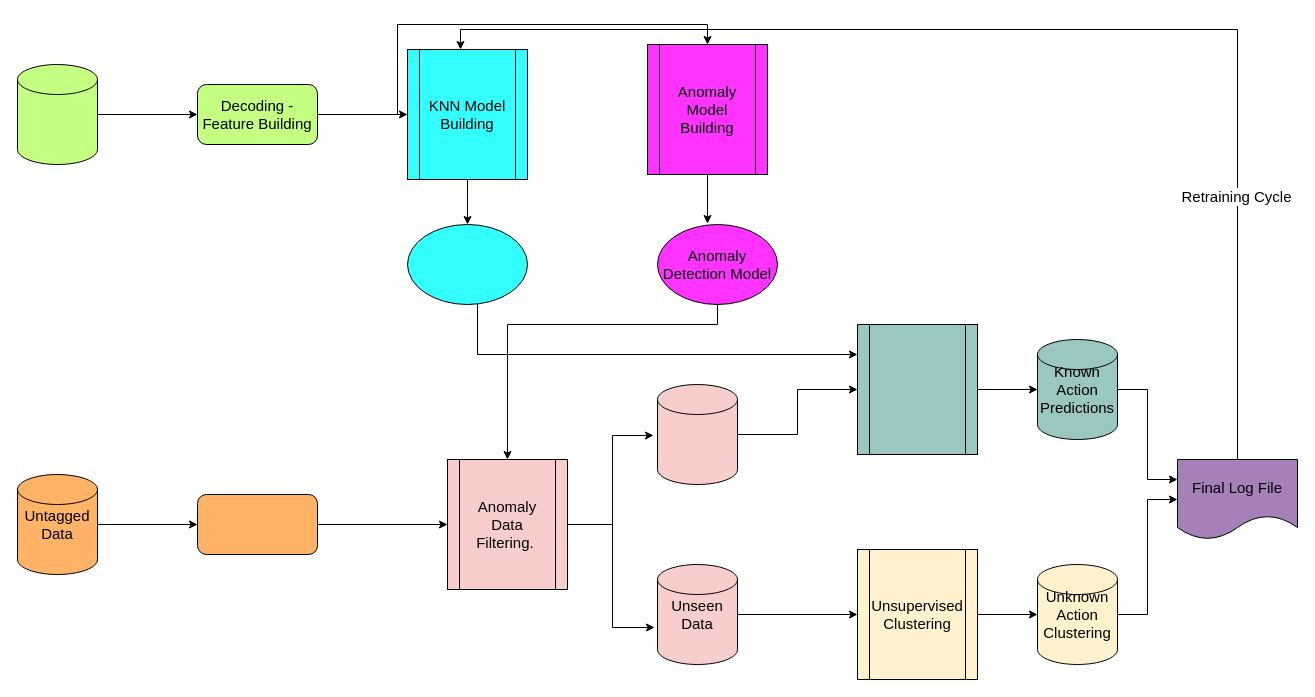
The diagram is 1315 pixels wide and 697 high, and some of its shapes have lost their labels. Each missing label, with the centre of its shape:
Decoding-SlideSplit-Feature Building: the point at 257,524
KNN Model: the point at 467,264
Labelled Data: the point at 57,114
Seen Data: the point at 697,434
Supervised Action Prediction: the point at 917,389
